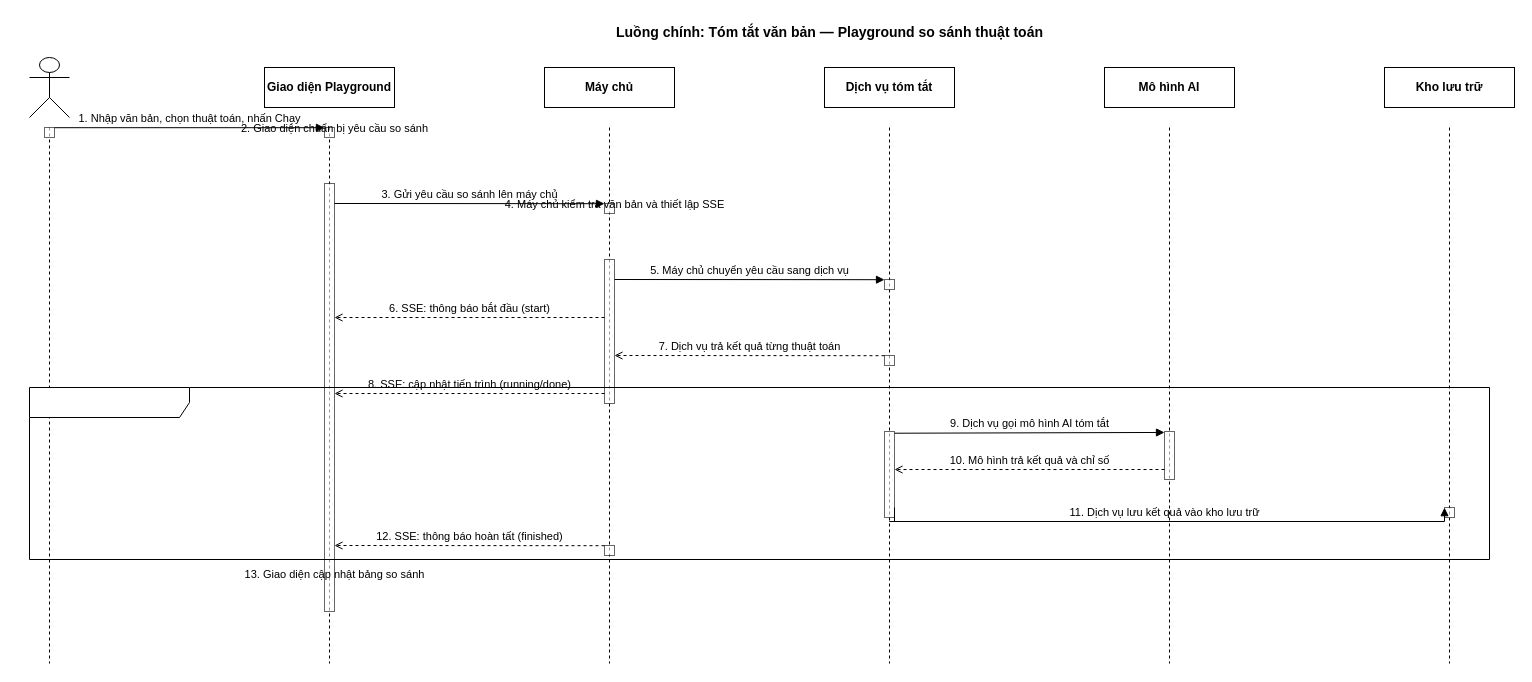
Image size: 1532x682. Some labels were removed from this diagram. Here are the shapes that lost their labels. From the top down, the centre of each, then its label:
the point at 49,87: Người dùng
the point at 759,473: vòng lặp [mỗi thuật toán]
